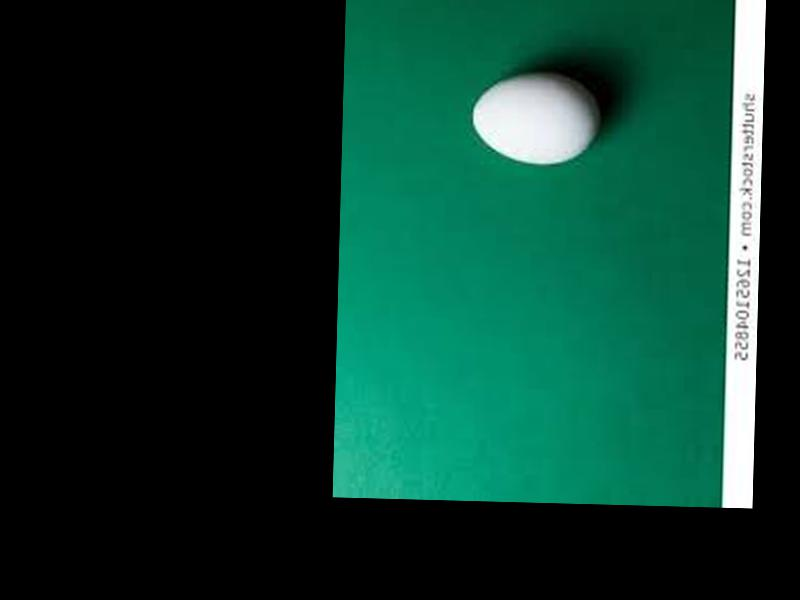Eggs: (472, 74, 601, 169)
